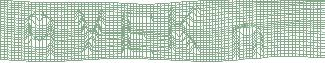E: (119, 12, 156, 58)
K: (165, 5, 203, 56)
n: (228, 21, 265, 61)
q: (22, 10, 54, 61)
y: (74, 8, 108, 56)
